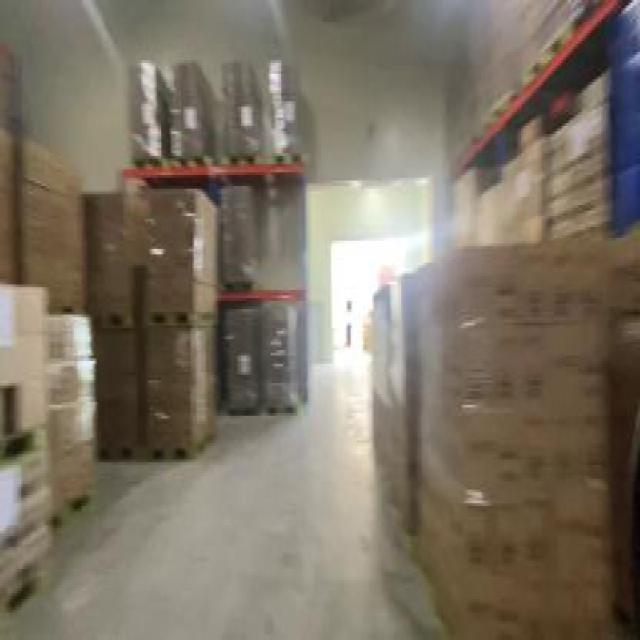box: (363, 225, 639, 638), (1, 282, 96, 610), (143, 183, 226, 457), (76, 178, 146, 462), (1, 120, 96, 328), (538, 87, 612, 240), (448, 148, 542, 257), (217, 309, 266, 421), (258, 301, 304, 416), (168, 66, 215, 166), (220, 180, 262, 290), (126, 57, 165, 167), (218, 60, 258, 162), (269, 58, 306, 164)
